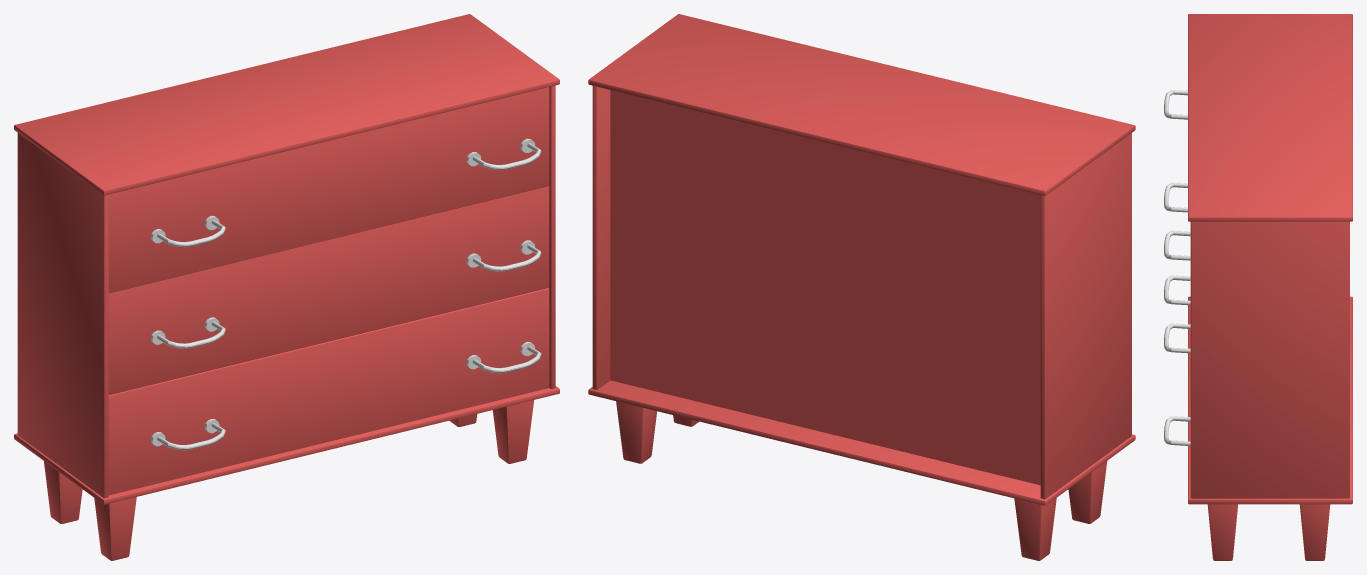
Rendered from komod.fbx.
3 views of the same model, side by side, from view 1: azimuth 30°, elevation 25°; view 2: azimuth 150°, elevation 25°; view 3: azimuth 270°, elevation 25° (orthographic). The views are drawn at different scales.
Visible parts, largest first — view 1: Plane.020; view 2: Plane.020; view 3: Plane.020.
Boxes of the visible parts, x1,y1,x2,y2 form: Plane.020: (14, 14, 559, 560); Plane.020: (588, 14, 1135, 560); Plane.020: (1164, 14, 1352, 560).
Size of the model in its own units: 605 by 489 by 237.
